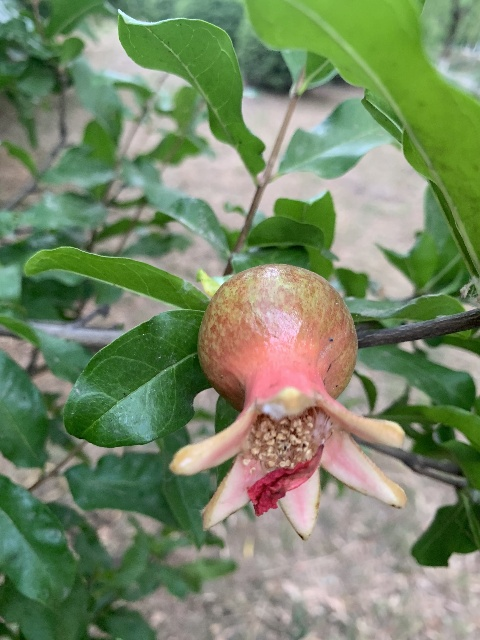early-fruit: (169, 262, 410, 542)
